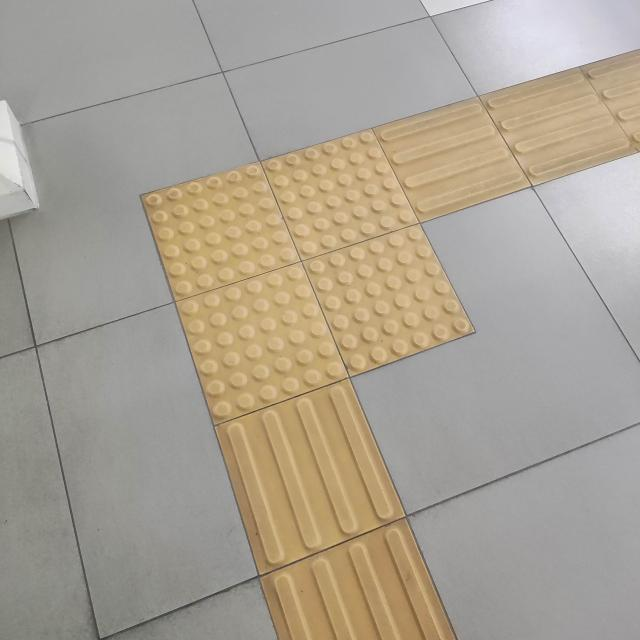kanan: (83, 105, 621, 447)
